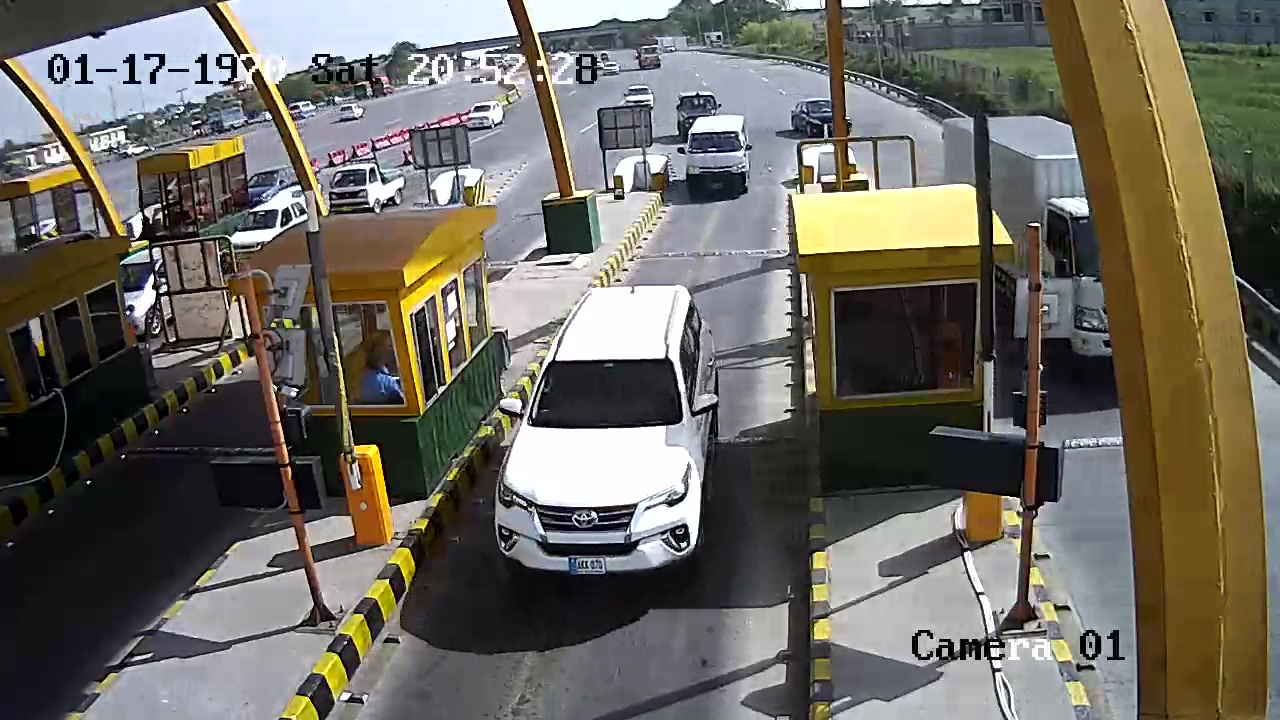F1: (493, 268, 731, 582)
